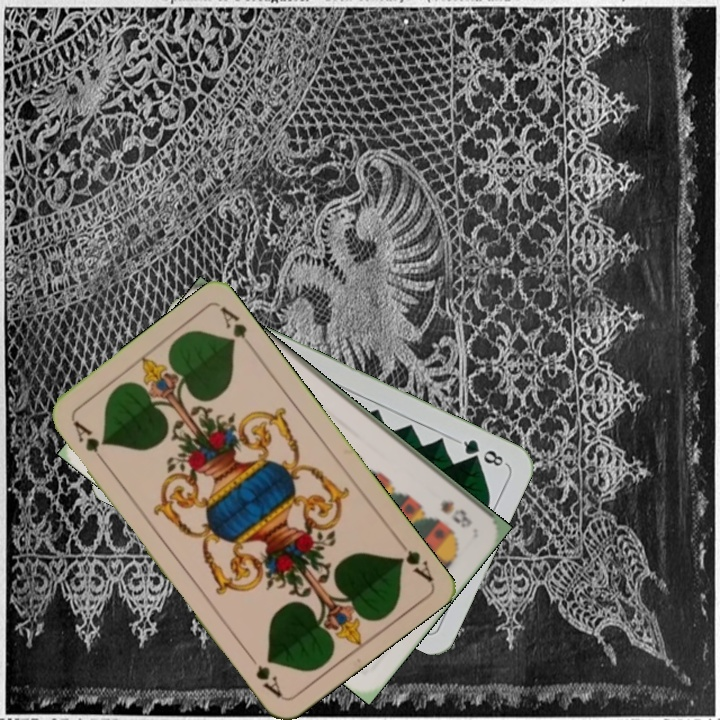G8: (453, 435, 509, 469)
GA: (392, 534, 435, 584), (68, 416, 109, 467)
S8: (436, 496, 475, 531)
